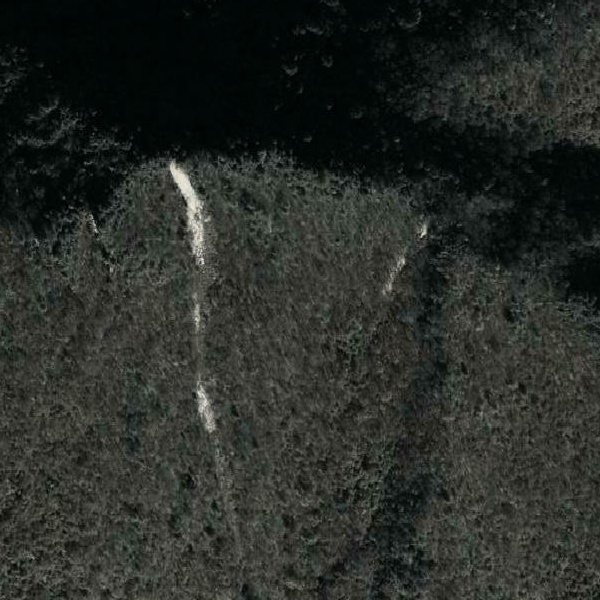slope: (169, 160, 209, 275), (195, 384, 225, 432)
